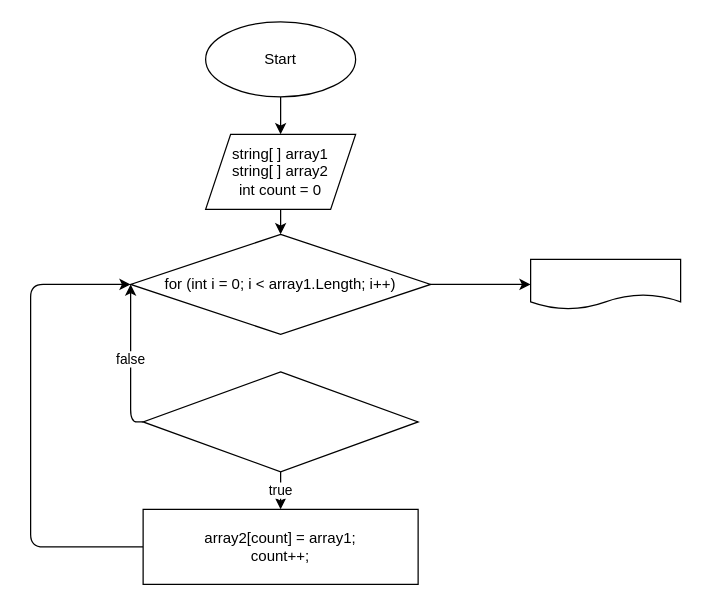
Image size: 703x606. Some labels were removed from this diagram. Each missing label, with the centre of its shape:
if (array1[i].Length <= 3): (x=280, y=421)
Print: (x=605, y=283)
